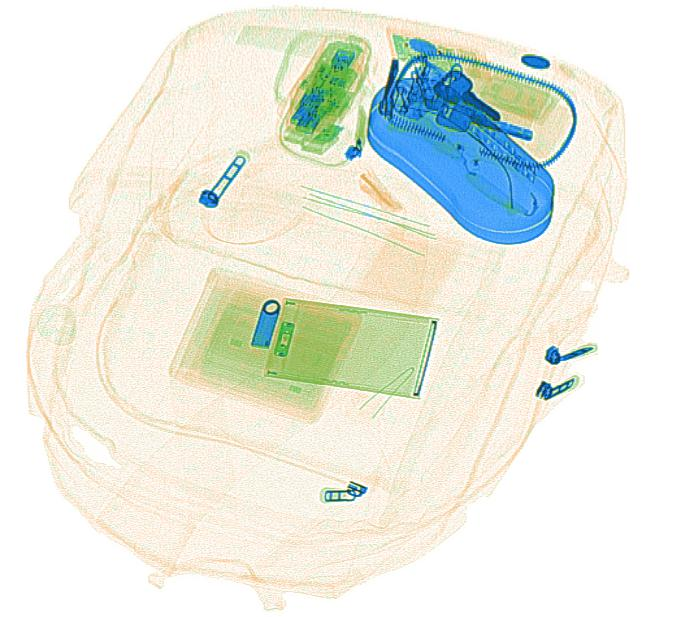USBFlashDisk: (288, 43, 365, 154)
